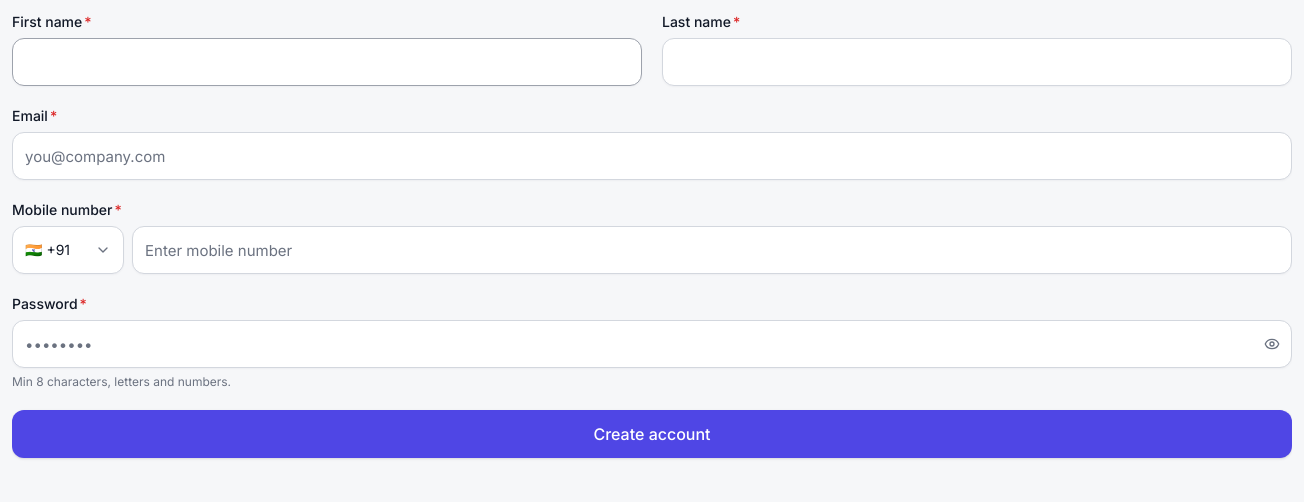
Test case: SignupForm › rejects a malformed mobile number
In the field labelled "First name*": (327, 62) [12,38,642,86], type "Sam"
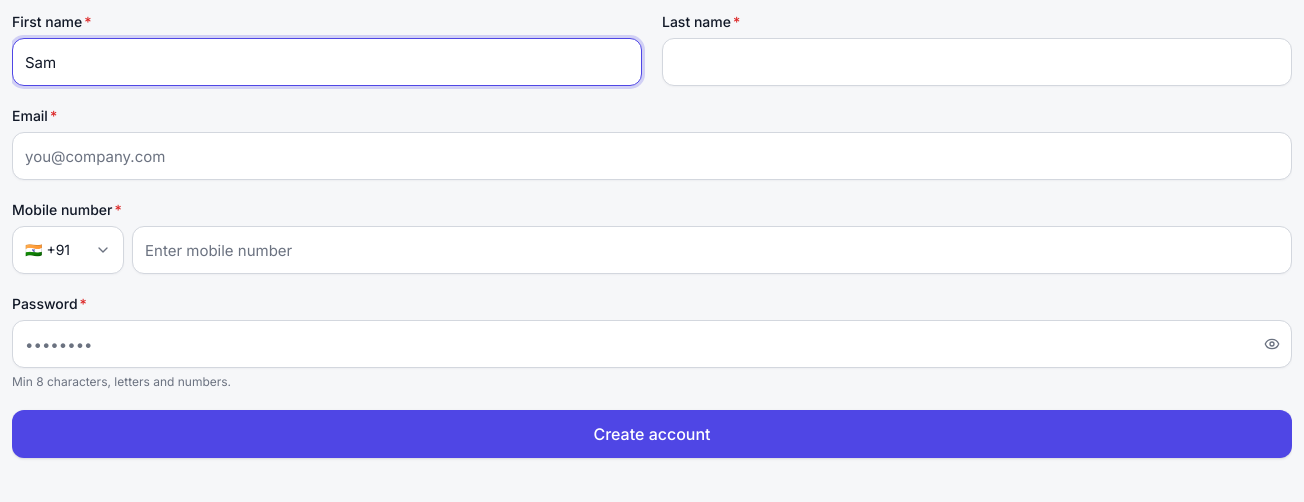
In the field labelled "Last name*": (977, 62) [662,38,1292,86], type "Rivera"
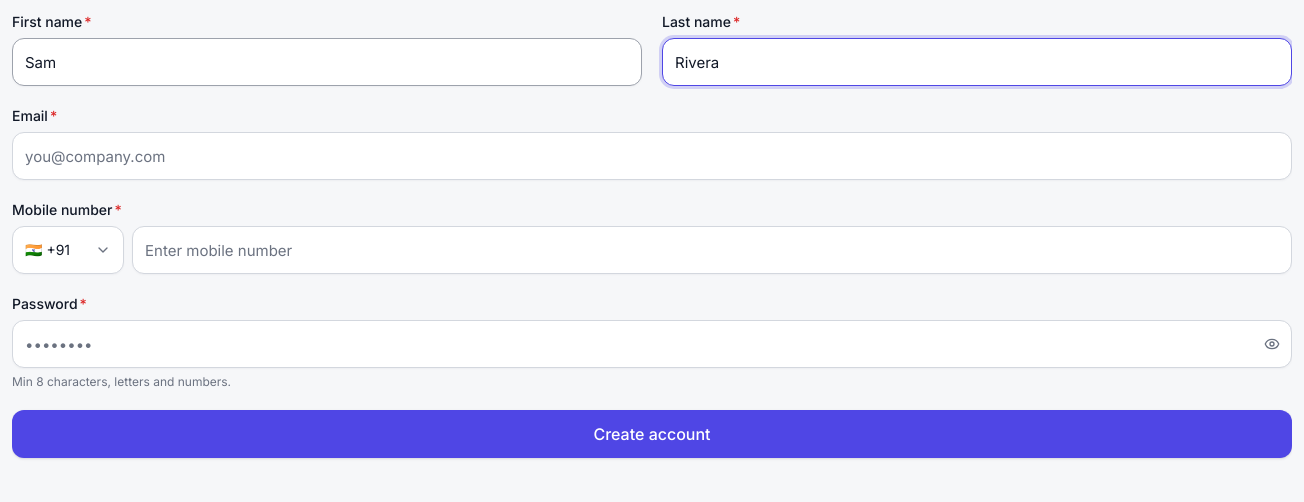
In the field labelled "Email*": (652, 156) [12,132,1292,180], type "sam@company.com"
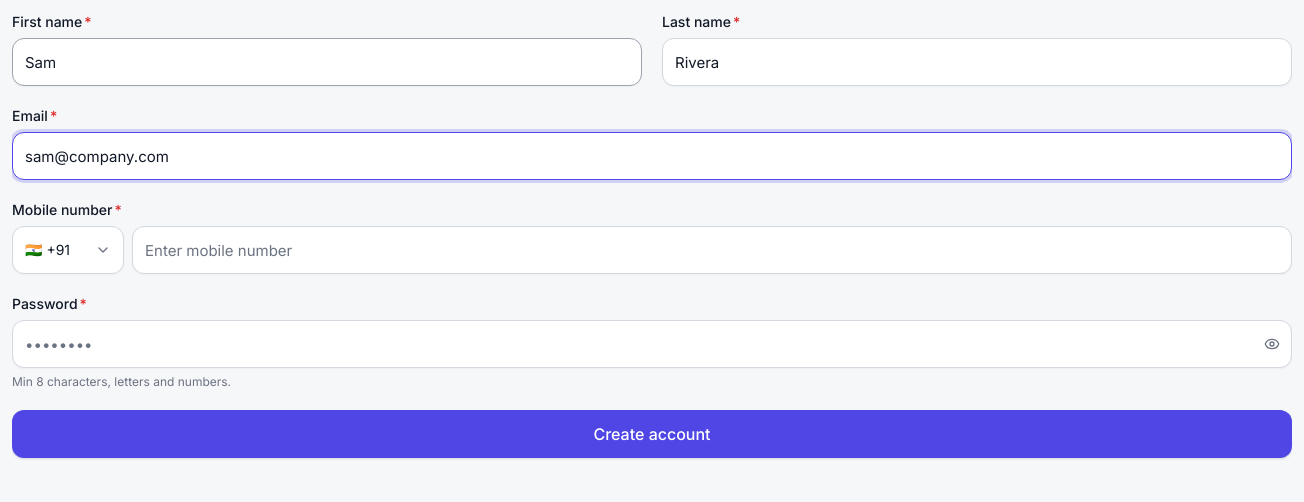
In the field labelled "Mobile number*": (712, 250) [132,226,1292,274], type "12ab"
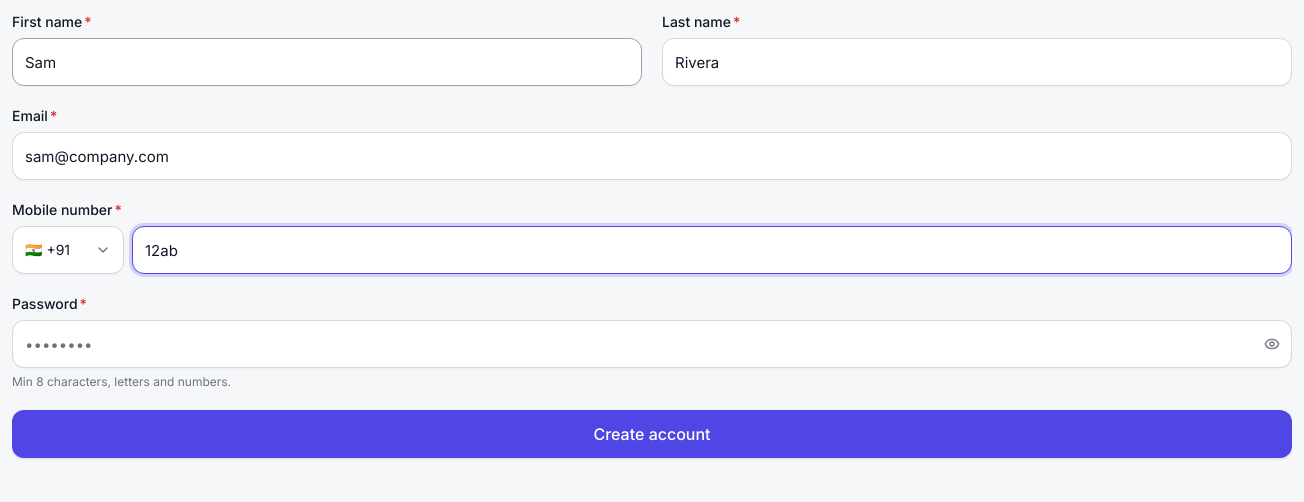
In the password field labelled "Password*": (652, 344) [12,320,1292,368], type "Signup1234"
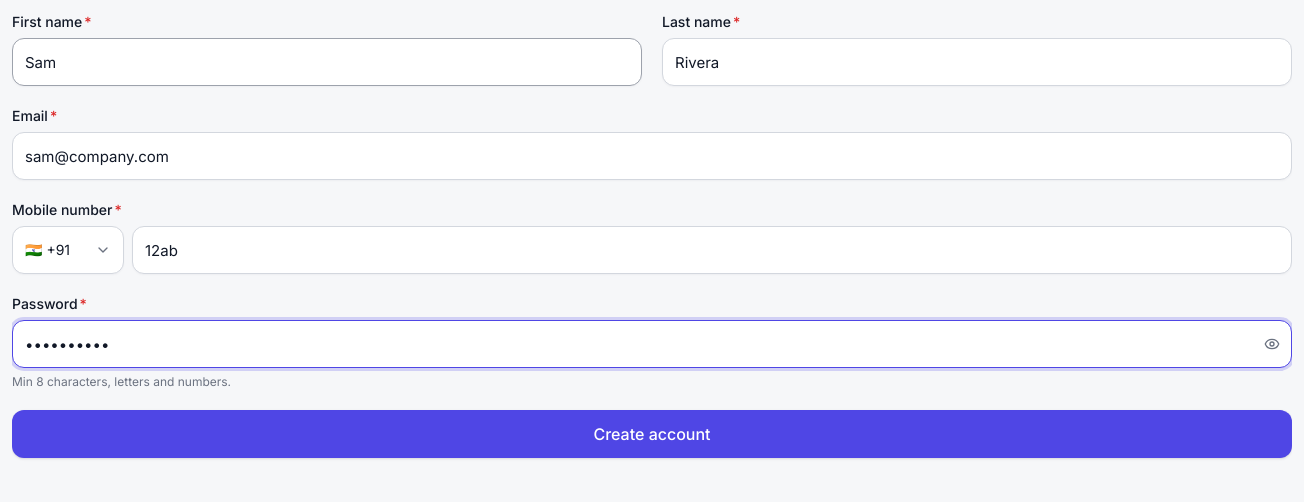
Click the button "Create account": (652, 434) [12,410,1292,458]
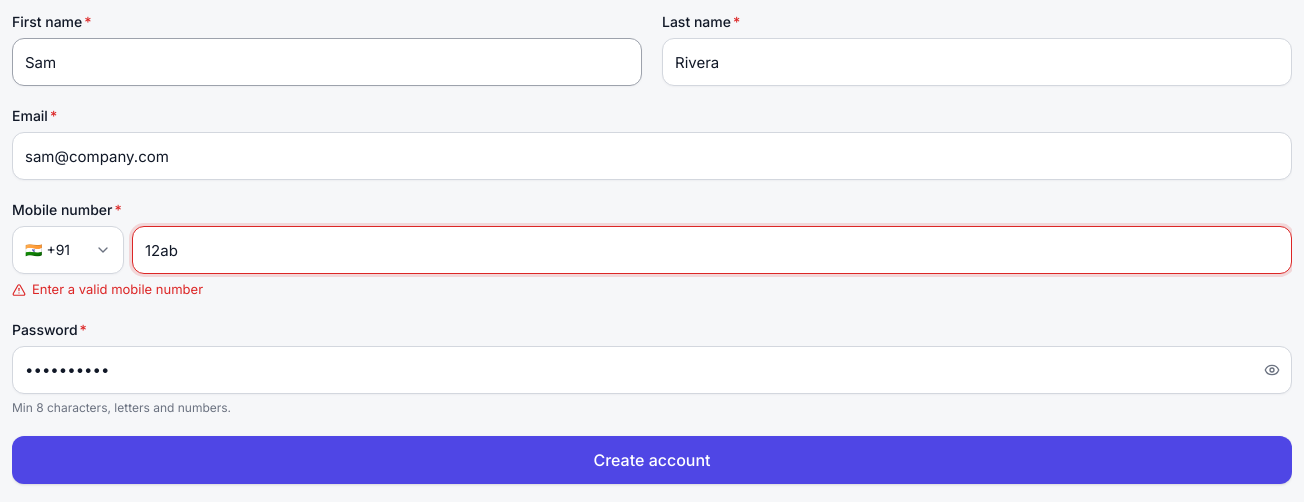
Check: the text "Enter a valid mobile number" is shown, box [12,281,203,297]
